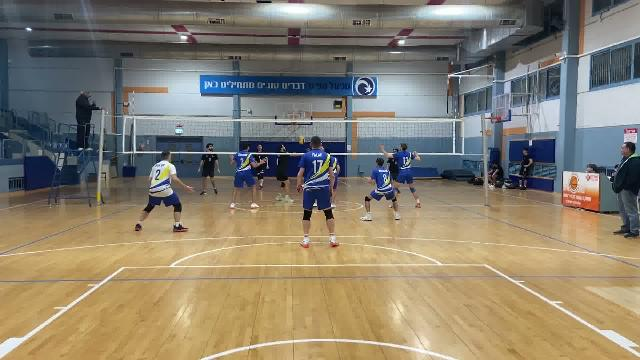ball: (296, 133, 307, 146)
